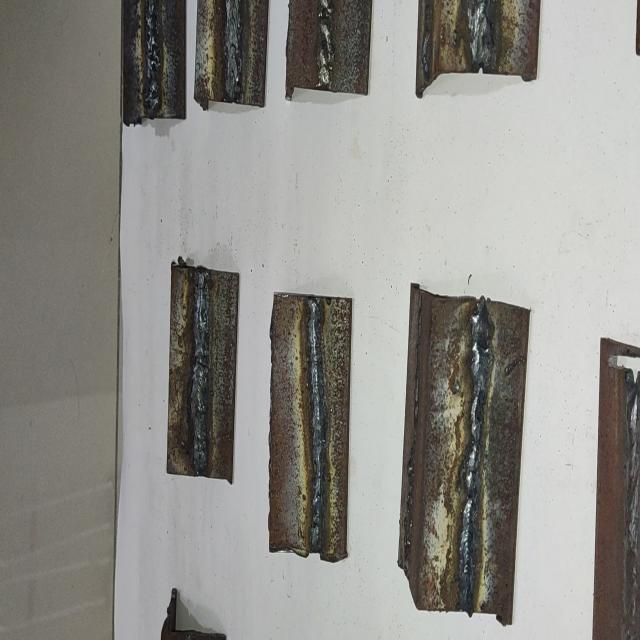Defect: (457, 314, 493, 606), (144, 0, 161, 118), (317, 0, 333, 88)
Welding Line: (459, 308, 492, 612), (306, 300, 326, 551), (192, 272, 208, 476), (144, 0, 163, 116), (224, 0, 243, 101), (317, 0, 333, 92)
Workpiece: (391, 276, 538, 630), (264, 284, 356, 566), (166, 258, 246, 485), (412, 0, 545, 103), (284, 0, 376, 106), (192, 0, 271, 120), (121, 0, 188, 130)
